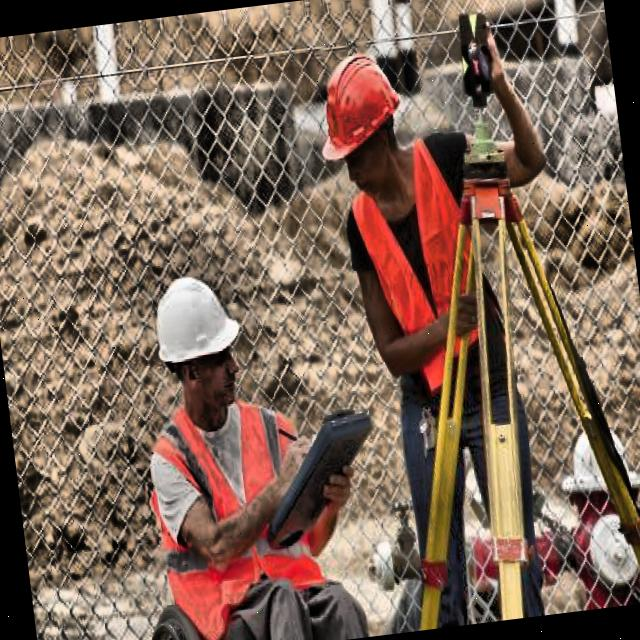helmet: (299, 35, 426, 216), (136, 254, 256, 434)
